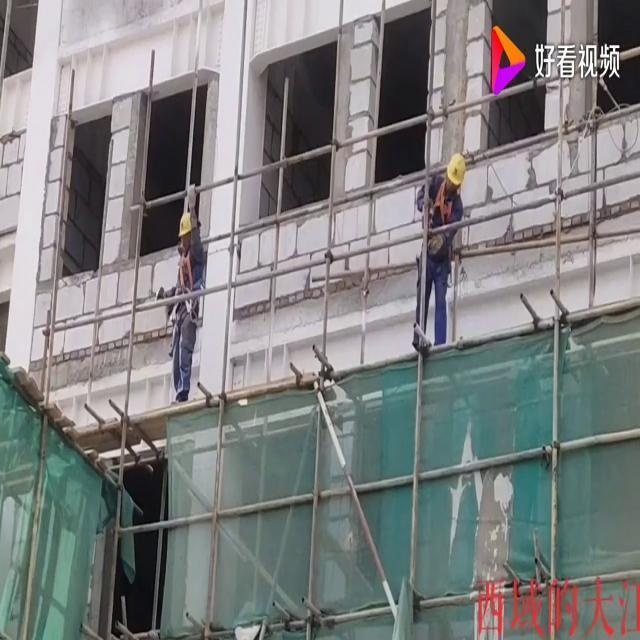Arnes_seguridad: (432, 175, 458, 229), (175, 247, 197, 296)
